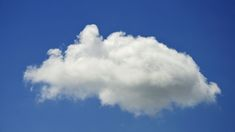Cumulus: (14, 15, 229, 119)
